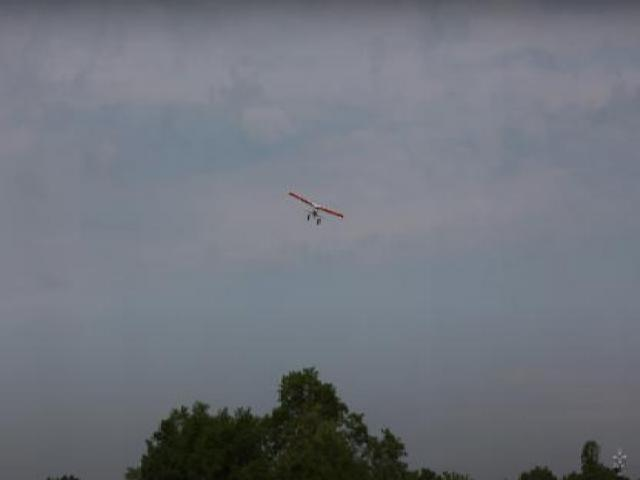uav: (288, 188, 346, 225)
